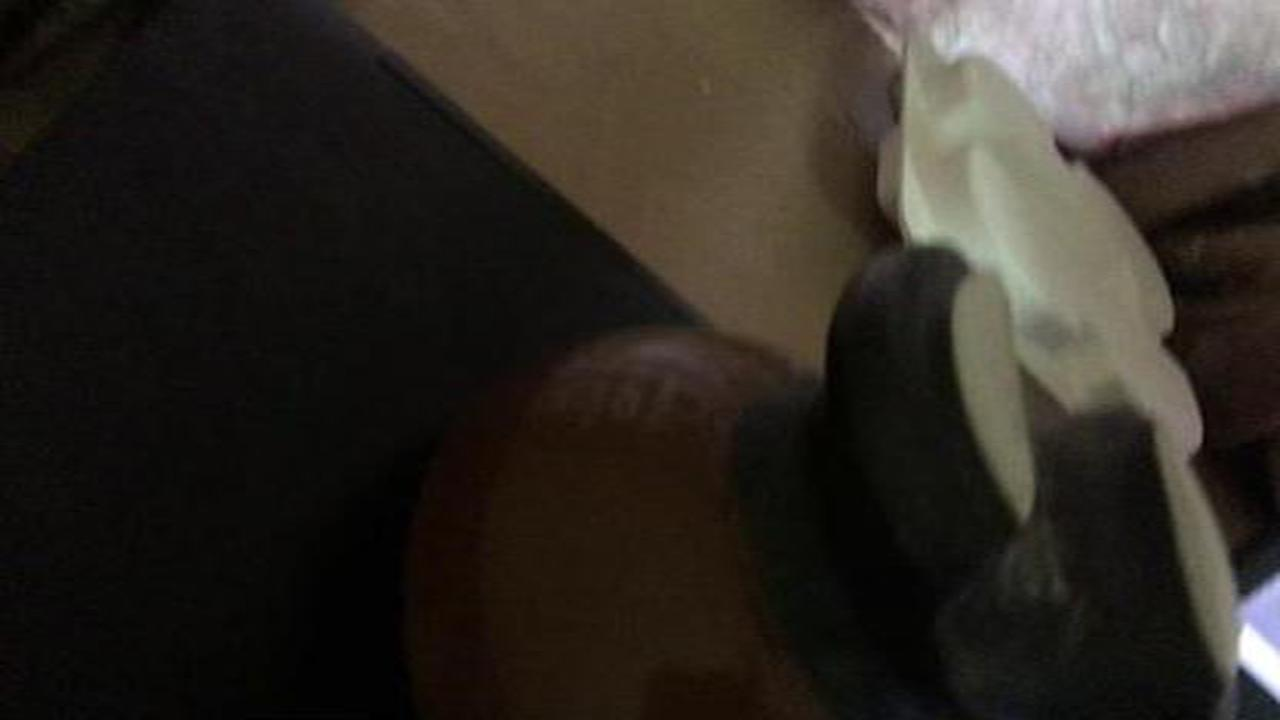insulator_pin: (376, 238, 1256, 698)
